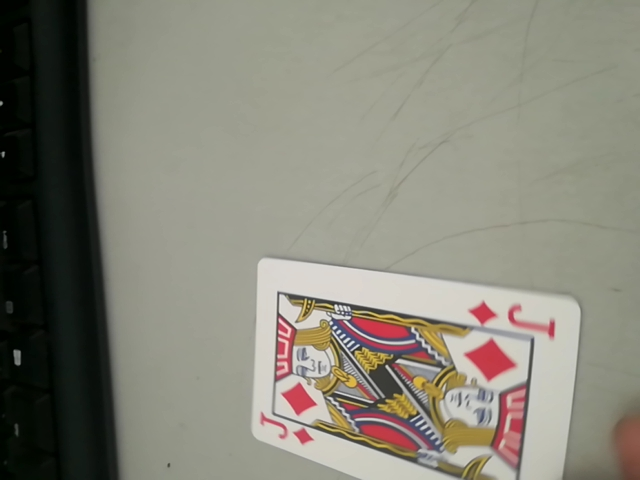fk j: (469, 296, 564, 336), (260, 420, 315, 451)
